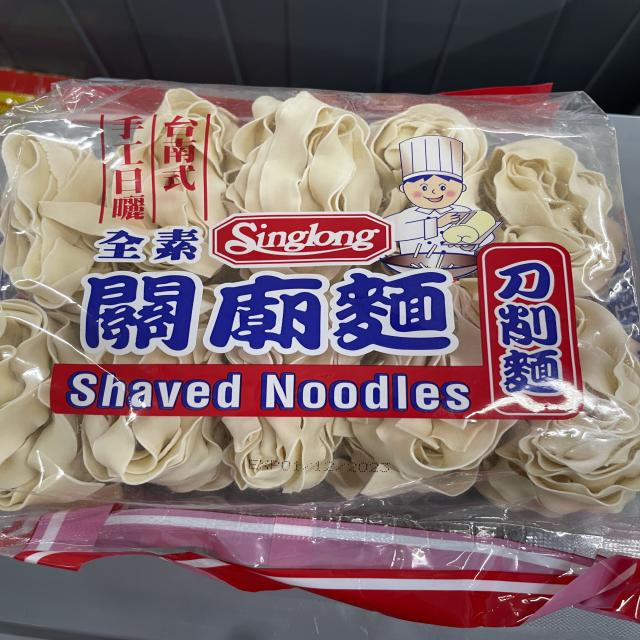object_name: (9, 82, 631, 589)
